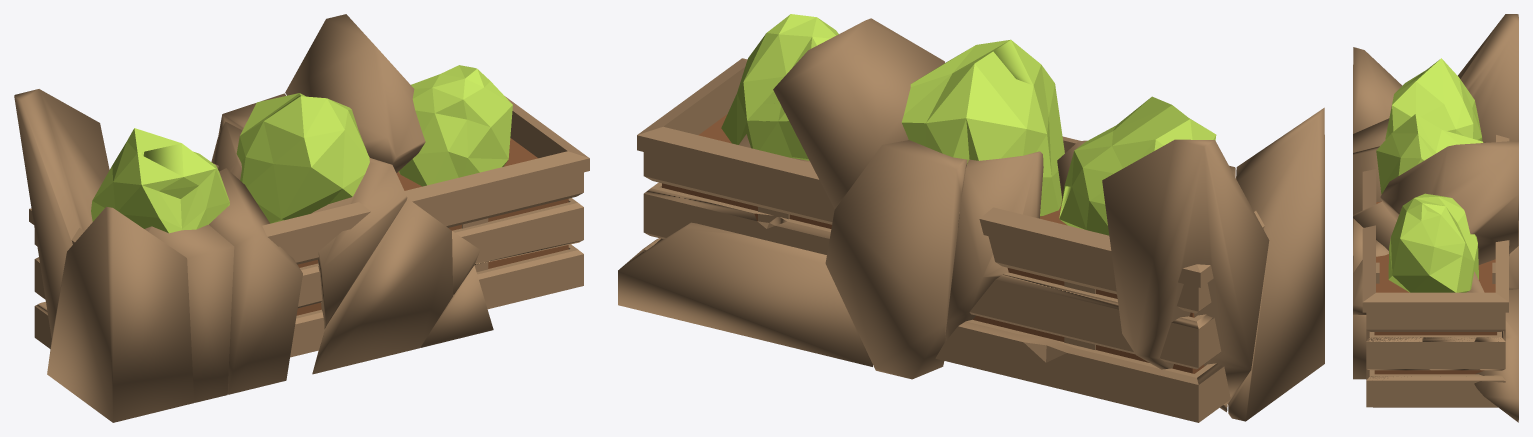
The model's file is rootnode_005_chunks.glb.
3 views of the same model, side by side, from view 1: azimuth 30°, elevation 25°; view 2: azimuth 150°, elevation 25°; view 3: azimuth 270°, elevation 25° (orthographic). The views are drawn at different scales.
Visible parts, largest first — view 1: PlanterBushes.002_cell.028, PlanterBushes.002_cell.024, PlanterBushes.002_cell.017, PlanterBushes.002_cell.010, PlanterBushes.002_cell.011, PlanterBushes.002_cell.026, PlanterBushes.002_cell.015, PlanterBushes.002_cell.006, PlanterBushes.002_cell.005, PlanterBushes.002_cell.009, PlanterBushes.002_cell.016, PlanterBushes.002_cell.019 (+16 smaller); view 2: PlanterBushes.002_cell.010, PlanterBushes.002_cell.020, PlanterBushes.002_cell.027, PlanterBushes.002_cell.028, PlanterBushes.002_cell.026, PlanterBushes.002_cell.023, PlanterBushes.002_cell.022, PlanterBushes.002_cell, PlanterBushes.002_cell.005, PlanterBushes.083, PlanterBushes.002_cell.024, PlanterBushes.002_cell.016 (+20 smaller); view 3: PlanterBushes.002_cell.026, PlanterBushes.002_cell.002, PlanterBushes.002_cell.010, PlanterBushes.002_cell.016, PlanterBushes.113, PlanterBushes.002_cell.022, PlanterBushes.080, PlanterBushes.002_cell.028, PlanterBushes.002_cell.024, PlanterBushes.002_cell.027, PlanterBushes.002_cell, PlanterBushes.002_cell.020 (+36 smaller).
Part boxes in pixels (left/top/right/bottom): PlanterBushes.002_cell.028: left=47, top=138, right=511, bottom=422; PlanterBushes.002_cell.024: left=240, top=93, right=407, bottom=329; PlanterBushes.002_cell.017: left=312, top=199, right=453, bottom=374; PlanterBushes.002_cell.010: left=14, top=89, right=569, bottom=337; PlanterBushes.002_cell.011: left=209, top=168, right=302, bottom=394; PlanterBushes.002_cell.026: left=285, top=14, right=425, bottom=173; PlanterBushes.002_cell.015: left=296, top=70, right=568, bottom=315; PlanterBushes.002_cell.006: left=144, top=224, right=234, bottom=402; PlanterBushes.002_cell.005: left=211, top=121, right=583, bottom=264; PlanterBushes.002_cell.009: left=35, top=244, right=583, bottom=357; PlanterBushes.002_cell.016: left=29, top=65, right=588, bottom=244; PlanterBushes.002_cell.019: left=140, top=142, right=229, bottom=232; PlanterBushes.002_cell.010: left=637, top=62, right=1269, bottom=404; PlanterBushes.002_cell.020: left=825, top=51, right=1264, bottom=379; PlanterBushes.002_cell.027: left=618, top=207, right=872, bottom=366; PlanterBushes.002_cell.028: left=662, top=107, right=1324, bottom=421; PlanterBushes.002_cell.026: left=773, top=18, right=944, bottom=209; PlanterBushes.002_cell.023: left=643, top=239, right=1198, bottom=422; PlanterBushes.002_cell.022: left=637, top=58, right=1200, bottom=287; PlanterBushes.002_cell: left=643, top=134, right=1198, bottom=313; PlanterBushes.002_cell.005: left=946, top=151, right=1043, bottom=340; PlanterBushes.083: left=766, top=226, right=1198, bottom=366; PlanterBushes.002_cell.024: left=966, top=65, right=1064, bottom=207; PlanterBushes.002_cell.016: left=693, top=20, right=1264, bottom=287; PlanterBushes.002_cell.026: left=1380, top=140, right=1518, bottom=264; PlanterBushes.002_cell.002: left=1366, top=196, right=1505, bottom=395; PlanterBushes.002_cell.010: left=1363, top=14, right=1518, bottom=407; PlanterBushes.002_cell.016: left=1362, top=169, right=1508, bottom=393; PlanterBushes.113: left=1366, top=342, right=1505, bottom=368; PlanterBushes.002_cell.022: left=1362, top=136, right=1509, bottom=331; PlanterBushes.080: left=1366, top=380, right=1505, bottom=407; PlanterBushes.002_cell.028: left=1353, top=47, right=1406, bottom=292; PlanterBushes.002_cell.024: left=1353, top=114, right=1417, bottom=255; PlanterBushes.002_cell.027: left=1474, top=262, right=1518, bottom=422; PlanterBushes.002_cell: left=1366, top=312, right=1505, bottom=331; PlanterBushes.002_cell.020: left=1362, top=122, right=1518, bottom=306.
Size of the model in its own units: 2.47 by 1.22 by 0.8693.
